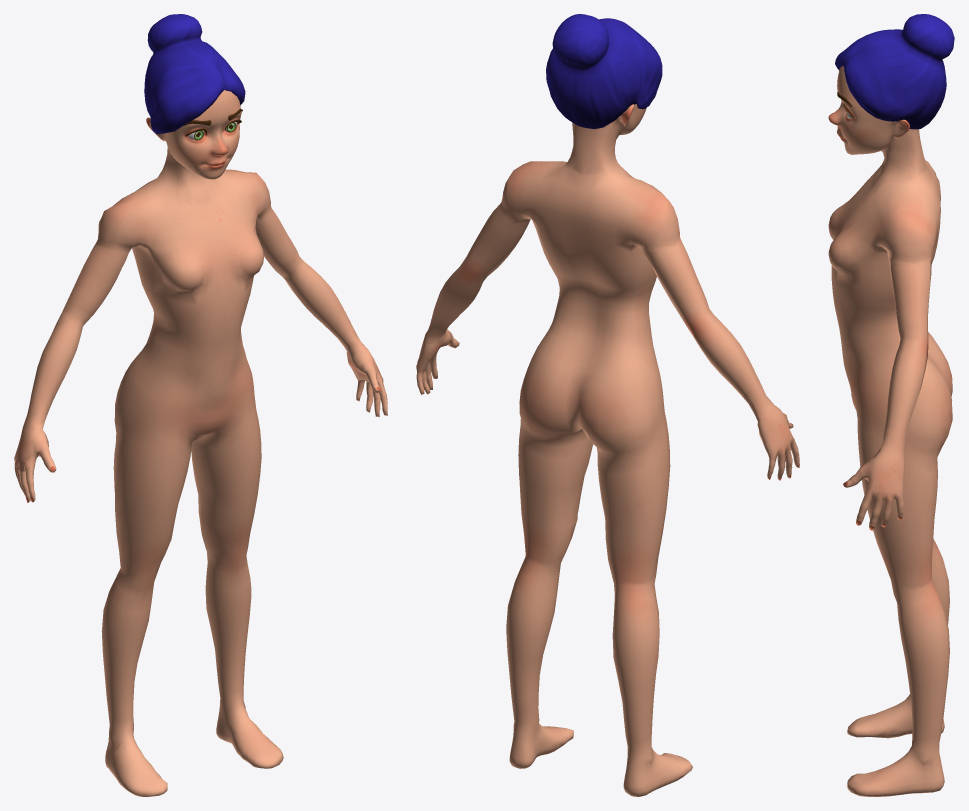
File: Character base.glb
3 views of the same model, side by side, from view 1: azimuth 30°, elevation 25°; view 2: azimuth 150°, elevation 25°; view 3: azimuth 270°, elevation 25° (orthographic). The views are drawn at different scales.
Visible parts, largest first — view 1: RetopoFlow, hair low.002; view 2: RetopoFlow, hair low.002; view 3: RetopoFlow, hair low.002.
Part boxes in pixels (x1,y1,x2,y2): RetopoFlow: [14, 90, 387, 796]; hair low.002: [144, 14, 245, 133]; RetopoFlow: [416, 104, 799, 796]; hair low.002: [546, 14, 662, 129]; RetopoFlow: [828, 66, 952, 796]; hair low.002: [835, 14, 954, 129].
Bounding box in the file's own units: 5.05 × 9.94 × 1.52.
Materials: 4 (2 with a texture image).
